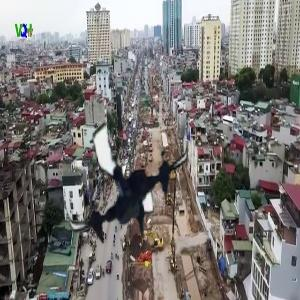drone: (54, 103, 201, 250)
